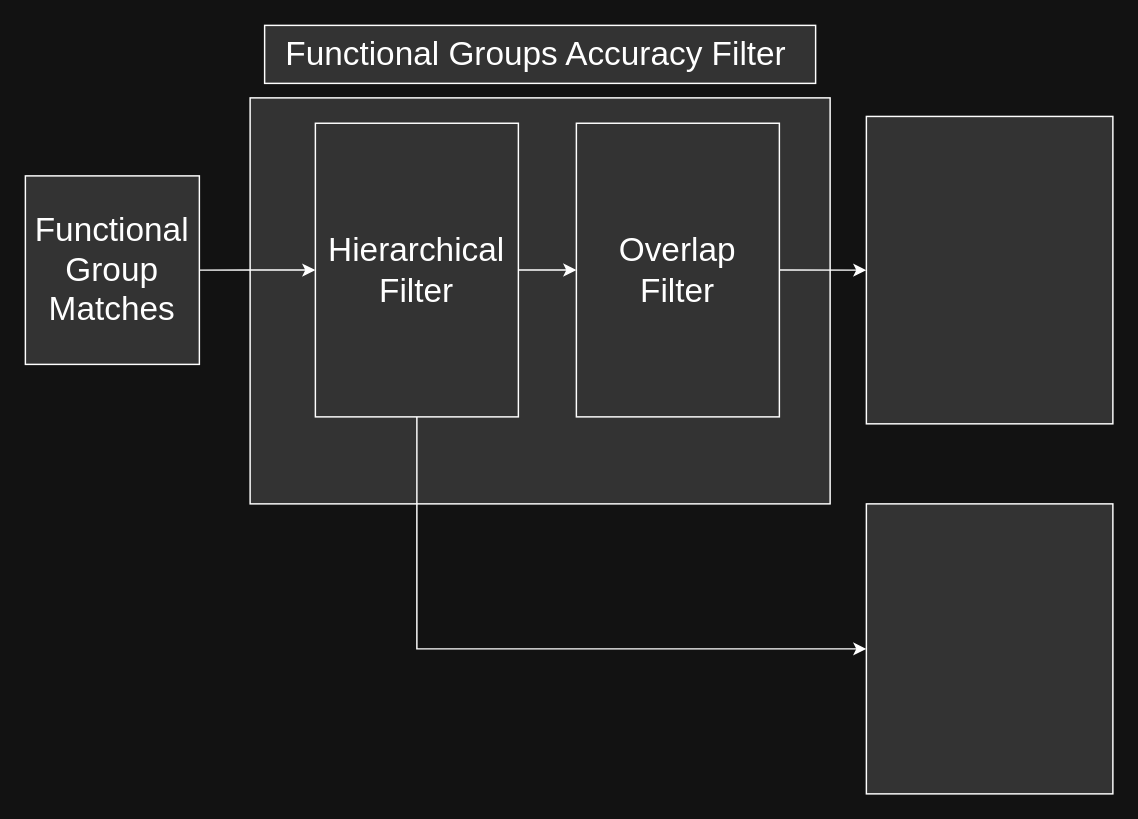
The diagram is 1138 pixels wide and 819 high, and some of its shapes have lost their labels. Each missing label, with the centre of its shape:
"All Unique Ring Classified Functional Groups" belongs at point 989,648.
"Overlap Filtered Unique Ring Classified Functional Groups" belongs at point 989,269.
